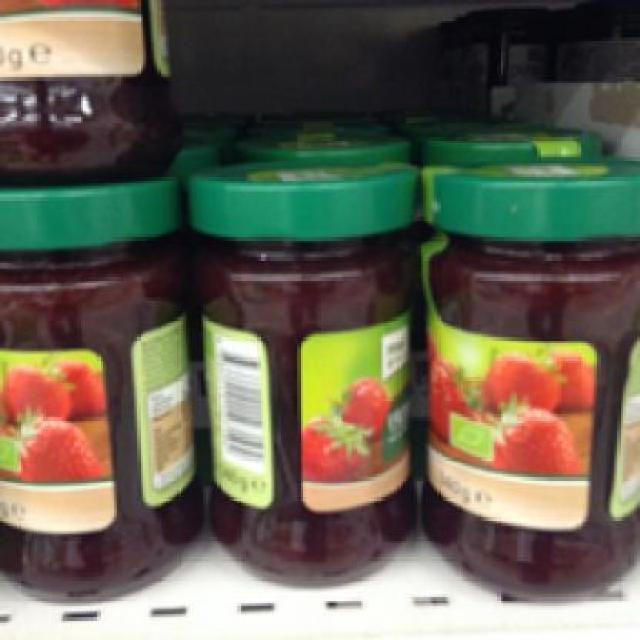Jam: (180, 157, 423, 586), (414, 155, 637, 594), (0, 180, 195, 604)
